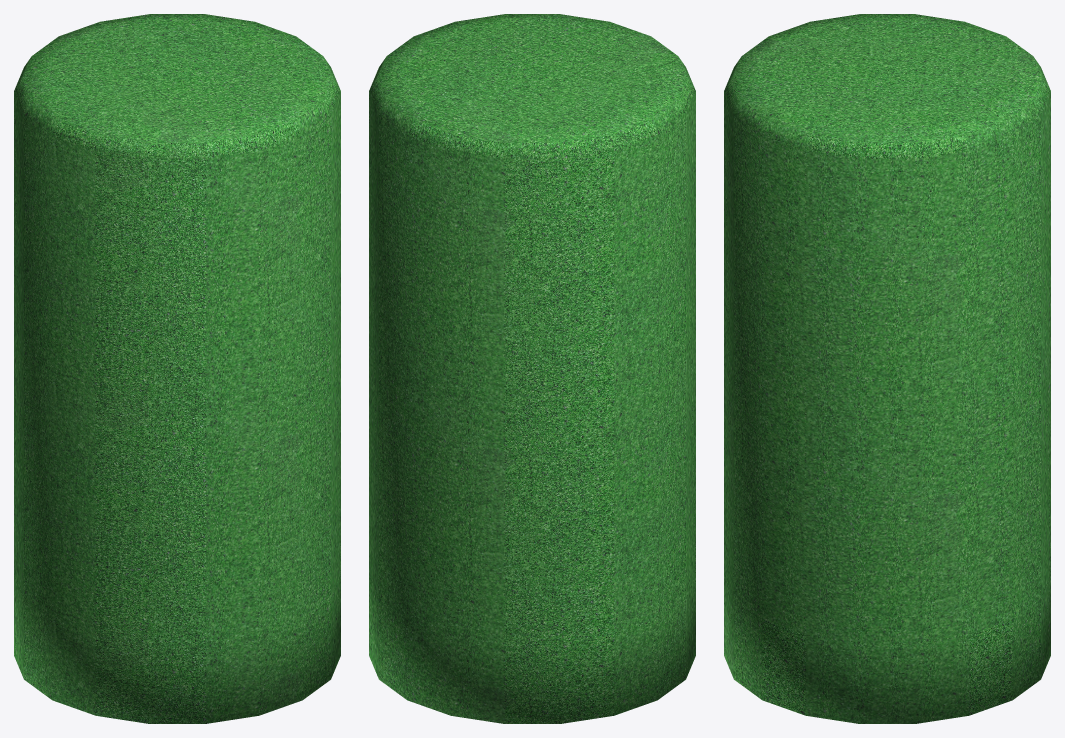
Rendered from Hedge Cylinder.FBX.
The picture shows the model from 3 angles, left to right: view 1: azimuth 30°, elevation 25°; view 2: azimuth 150°, elevation 25°; view 3: azimuth 270°, elevation 25°; orthographic projection.
Parts seen in each view (by area): view 1: Hedge Cylinder; view 2: Hedge Cylinder; view 3: Hedge Cylinder.
Part boxes in pixels (x1,y1,x2,y2): Hedge Cylinder: (14, 14, 340, 723); Hedge Cylinder: (369, 14, 695, 723); Hedge Cylinder: (724, 14, 1050, 723).
Bounding box in the file's own units: 19.09 × 39.37 × 19.39.
Materials: 1 (1 with a texture image).
